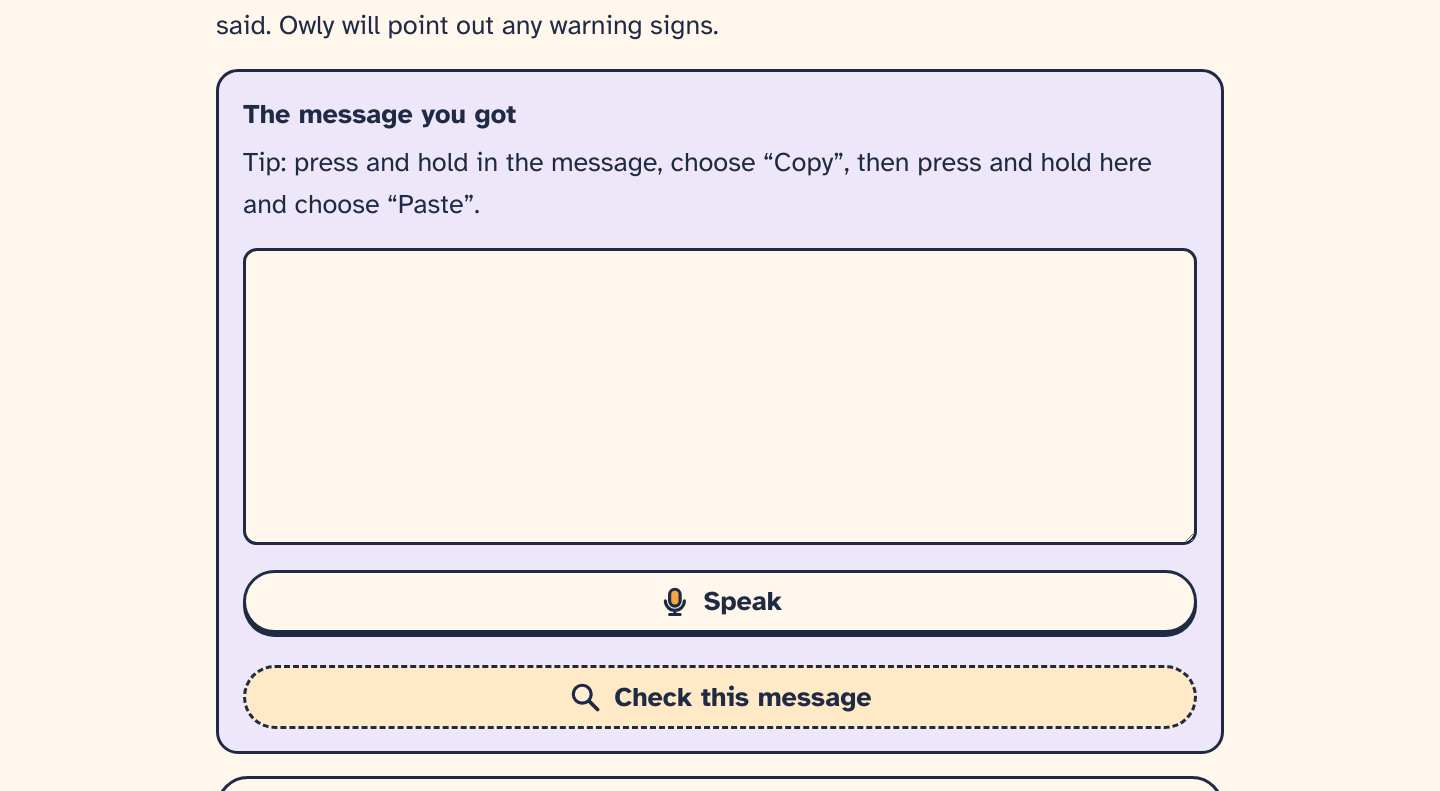
Test: Message checker explains each warning sign and offers to report
(page scrolled)
In the text box labelled "The message you got": coordinates (720, 396) [243,248,1197,545], type "Grandma it's me, I need bail money. Don't tell mom. Send gift cards."
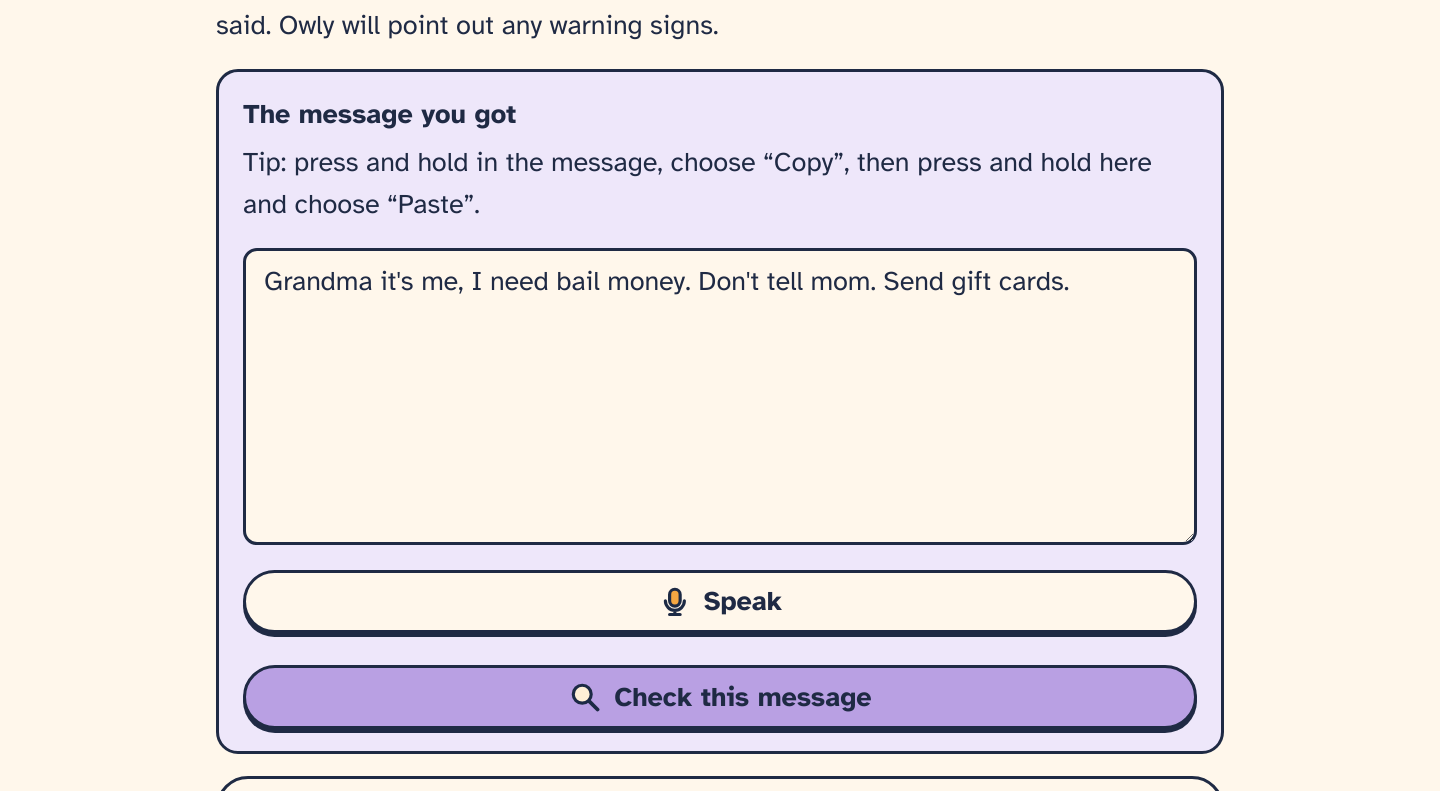
Click the button "Check this message": coordinates (720, 697) [243,665,1197,729]
(page scrolled)
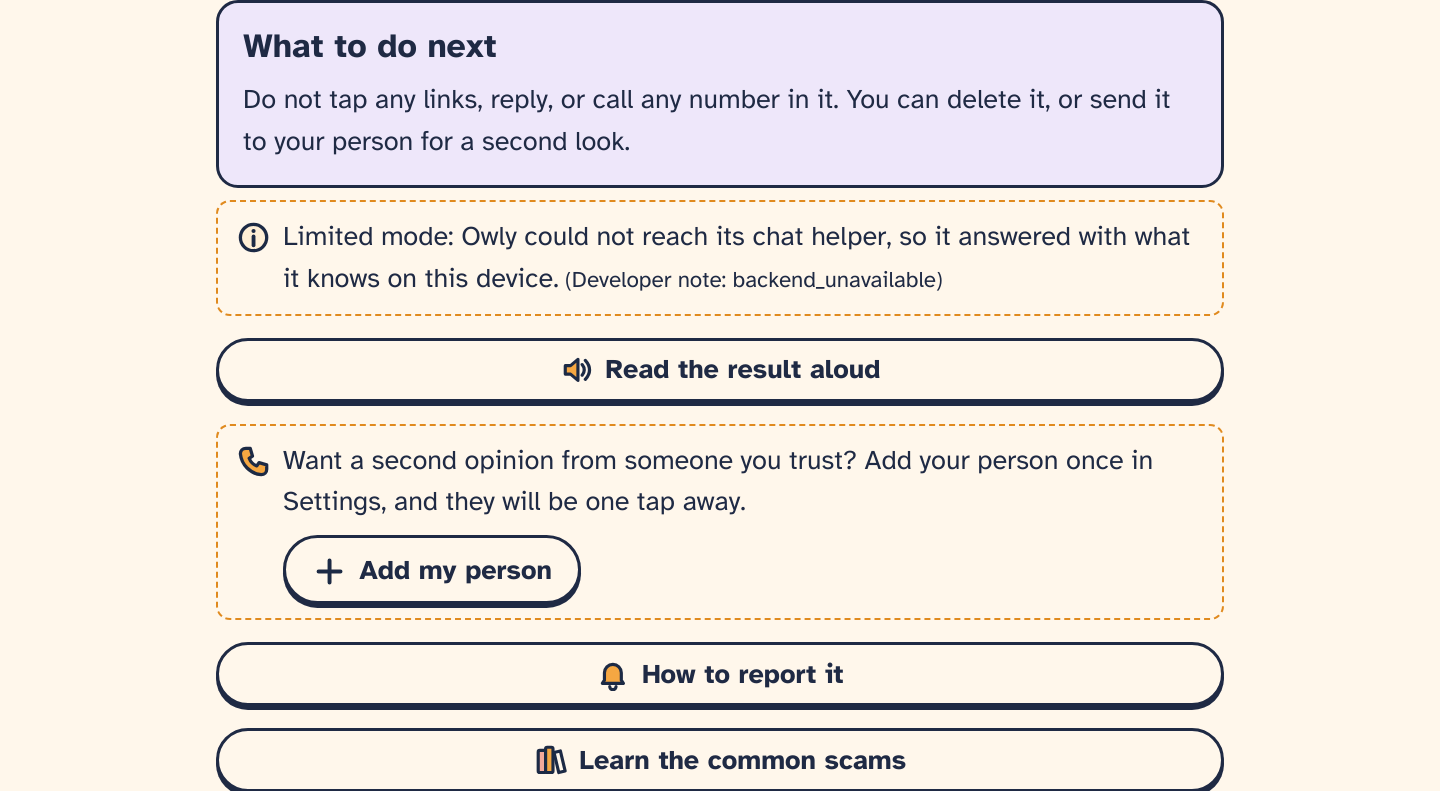
Check: the link "How to report it" is shown, box [216,642,1224,706]
Check: the link "Add my person" is shown, box [283,535,581,604]
